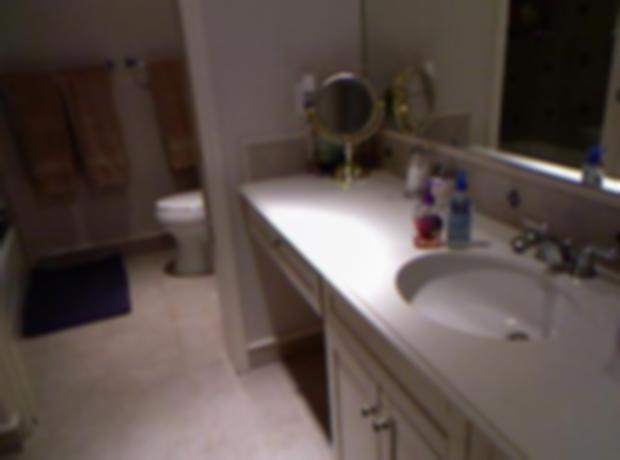Lavamanos: (380, 182, 612, 361)
Sanitario: (156, 142, 272, 276)
